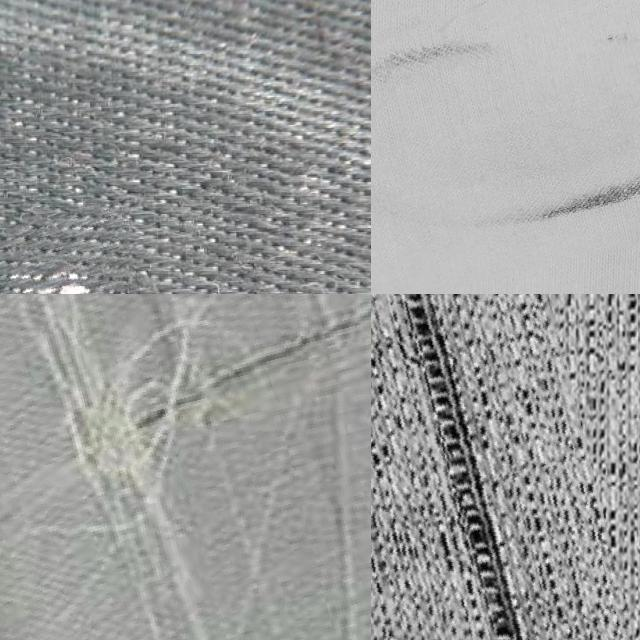Thread_other: (371, 0, 640, 292)
stains: (0, 294, 371, 640), (371, 294, 640, 640), (0, 206, 149, 294)
